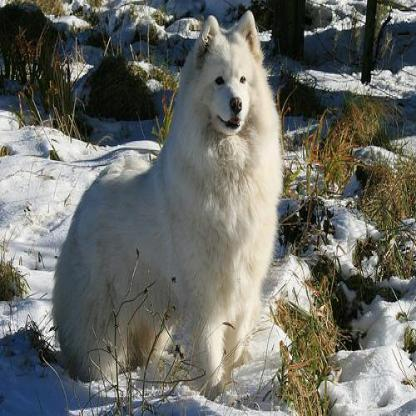Samoyed: (52, 9, 282, 391)
